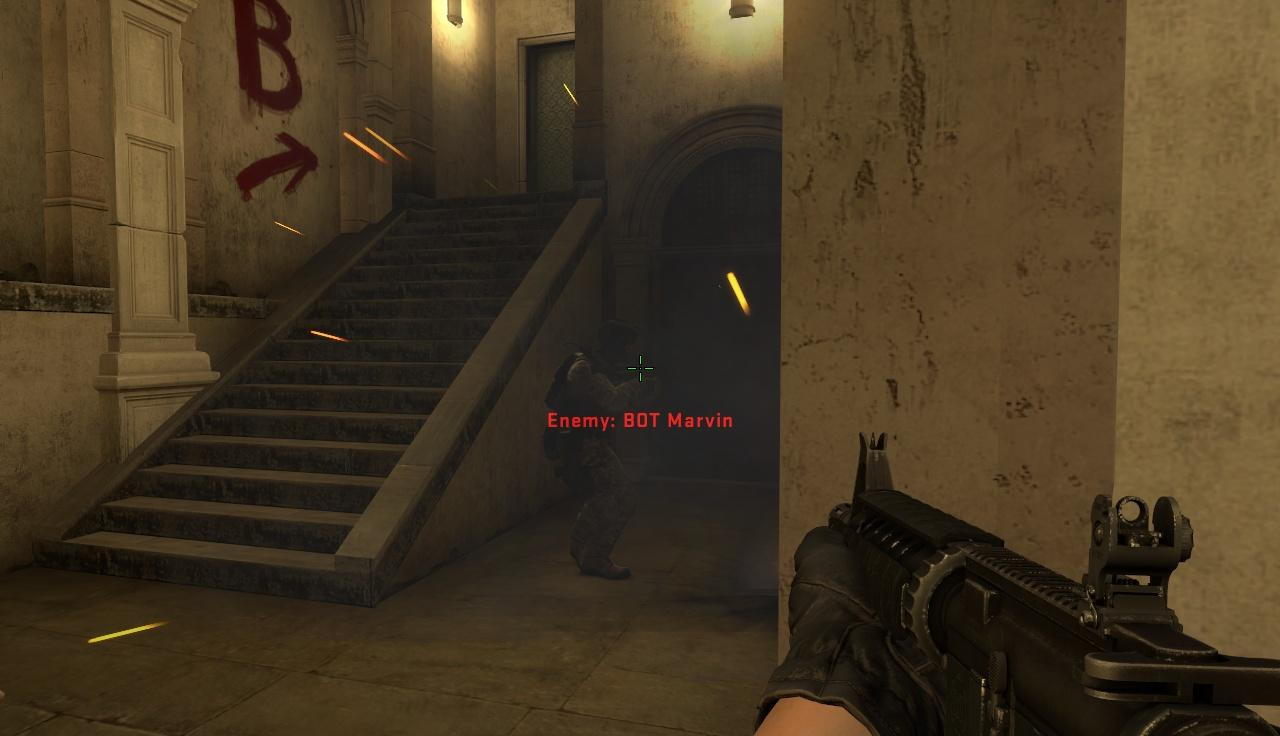ct: (551, 320, 650, 571)
cthead: (599, 320, 639, 362)
rifle: (828, 433, 1280, 736)
